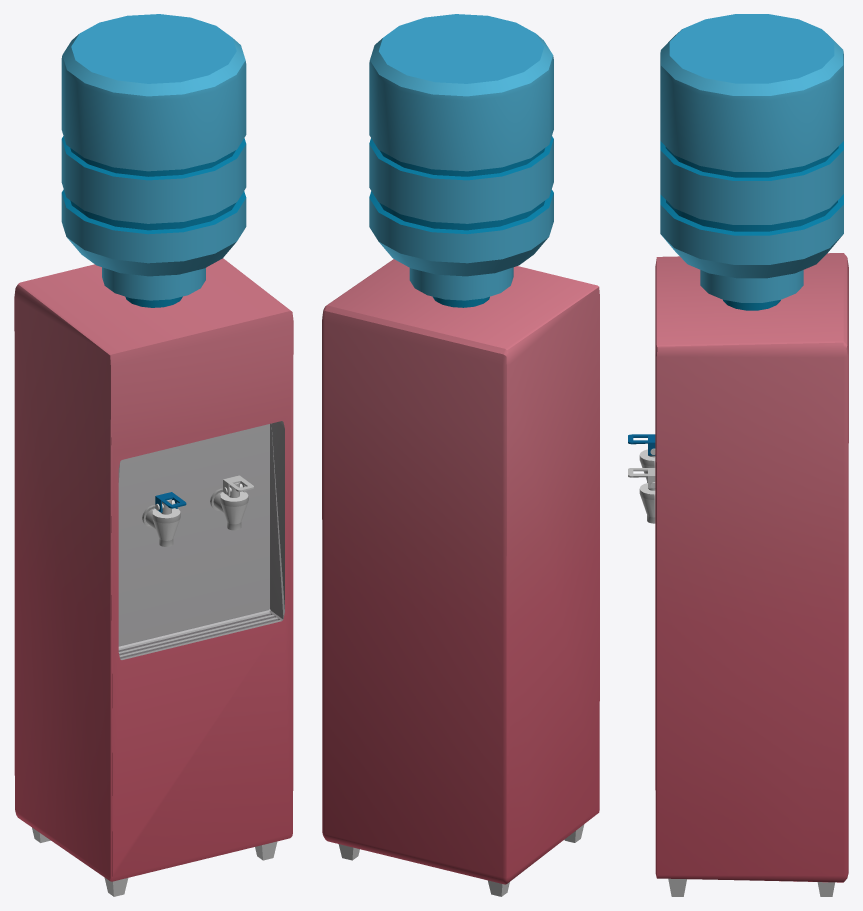
The model's file is dispanser.fbx.
The picture shows the model from 3 angles, left to right: view 1: azimuth 30°, elevation 25°; view 2: azimuth 150°, elevation 25°; view 3: azimuth 270°, elevation 25°; orthographic projection.
Visible parts, largest first — view 1: Dispanser; view 2: Dispanser; view 3: Dispanser.
Part boxes in pixels (box(x1,y1,x2,y2)): Dispanser: box(14, 14, 293, 896); Dispanser: box(322, 14, 599, 896); Dispanser: box(639, 14, 848, 896).
Bounding box in the file's own units: 31.62 × 129 × 31.81.
